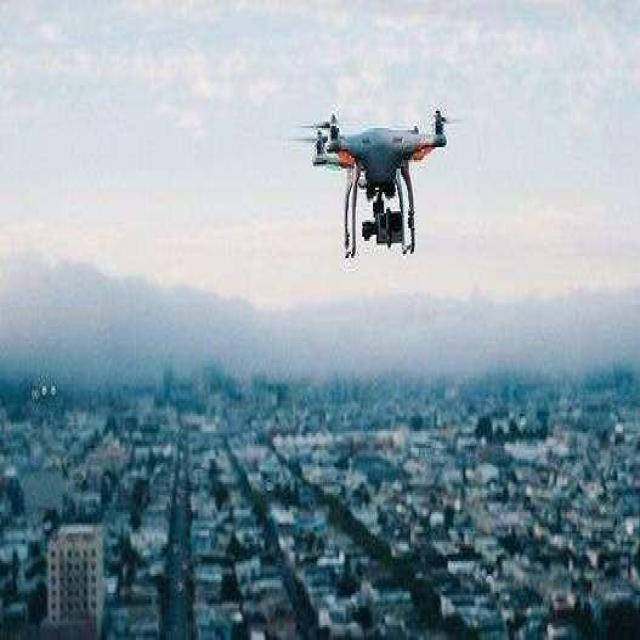UAV: (312, 109, 448, 258)
